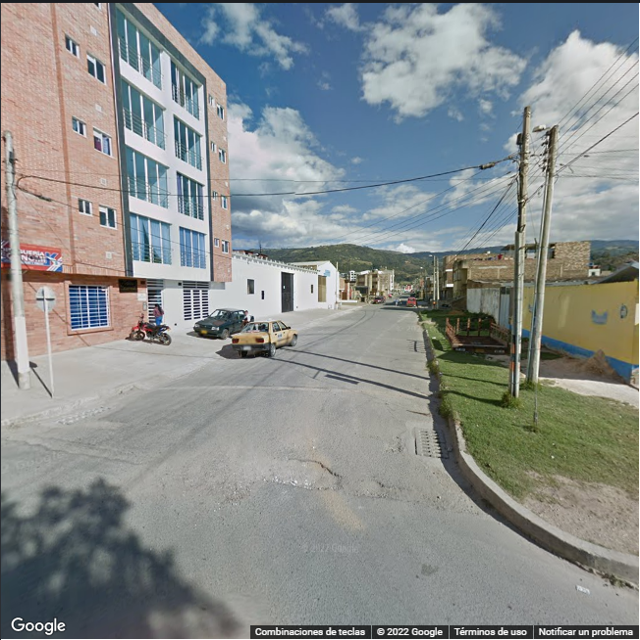D10: (9, 440, 133, 462)
D40: (262, 452, 336, 494)
